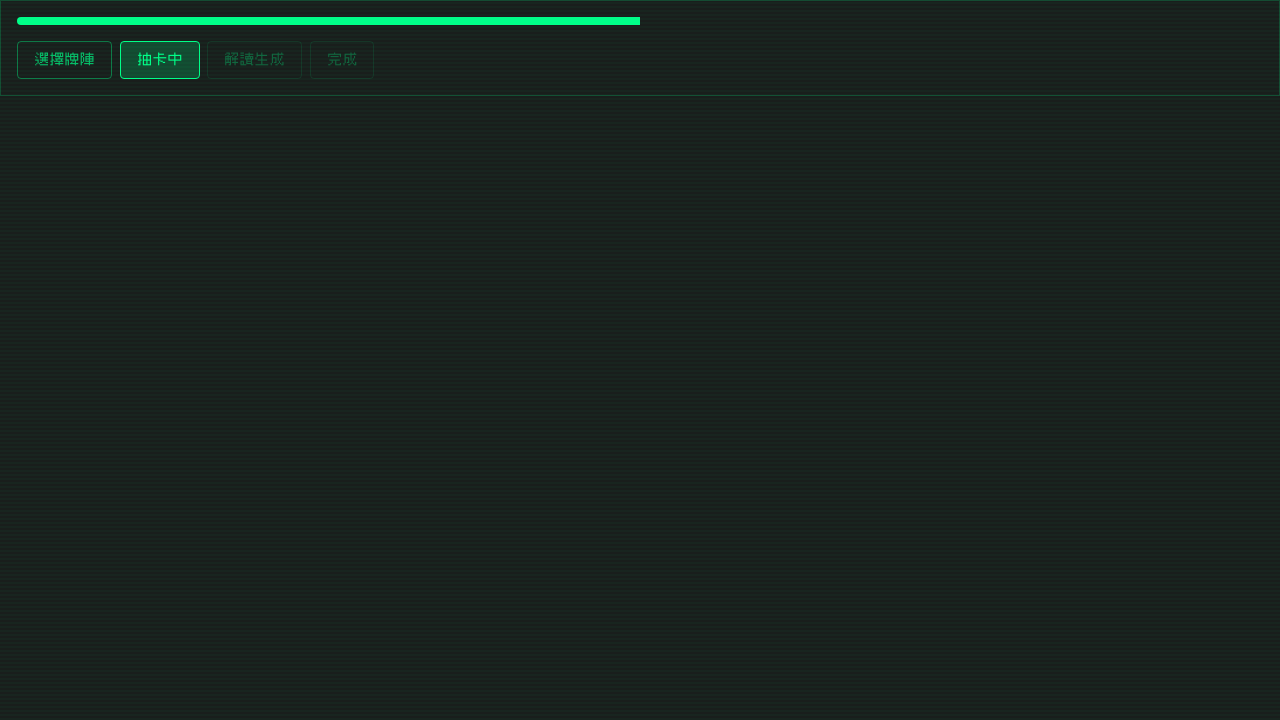
it: ReadingFlowIntegration › Back Button Confirmation › should prevent navigation on incomplete stage
This screenshot has width=1280, height=720.
Click the button "選擇牌陣" at (64, 60), box [17, 41, 112, 79]
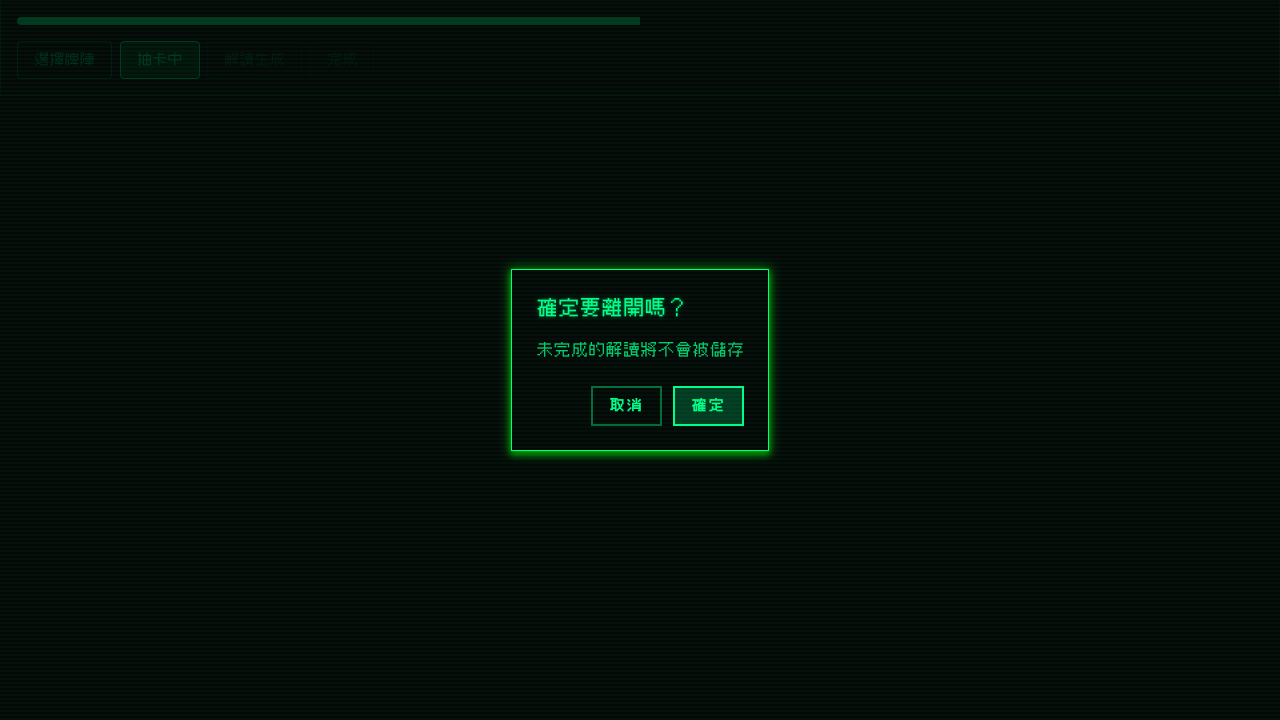
Check: the heading "確定要離開嗎？" is shown, box [536, 296, 688, 320]
Check: the text "未完成的解讀將不會被儲存" is shown, box [536, 338, 744, 362]
